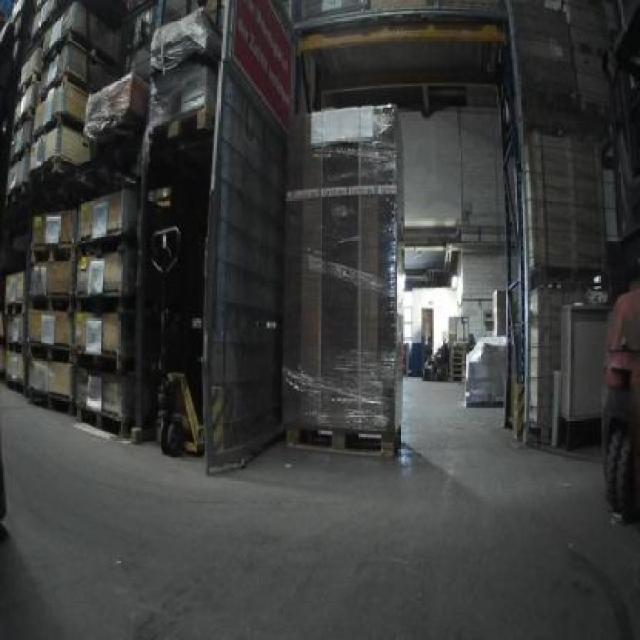ground: (0, 377, 638, 638)
pallet: (9, 26, 119, 102), (0, 150, 90, 225), (280, 416, 404, 460), (5, 108, 88, 167), (145, 102, 215, 148), (526, 258, 612, 293), (76, 401, 134, 443), (26, 384, 78, 420), (74, 345, 130, 377), (575, 90, 624, 126), (72, 290, 138, 316), (445, 334, 474, 385), (29, 239, 79, 267), (78, 234, 138, 256), (568, 33, 612, 62), (28, 339, 76, 365), (28, 291, 76, 316), (3, 300, 29, 318), (4, 338, 27, 356)
